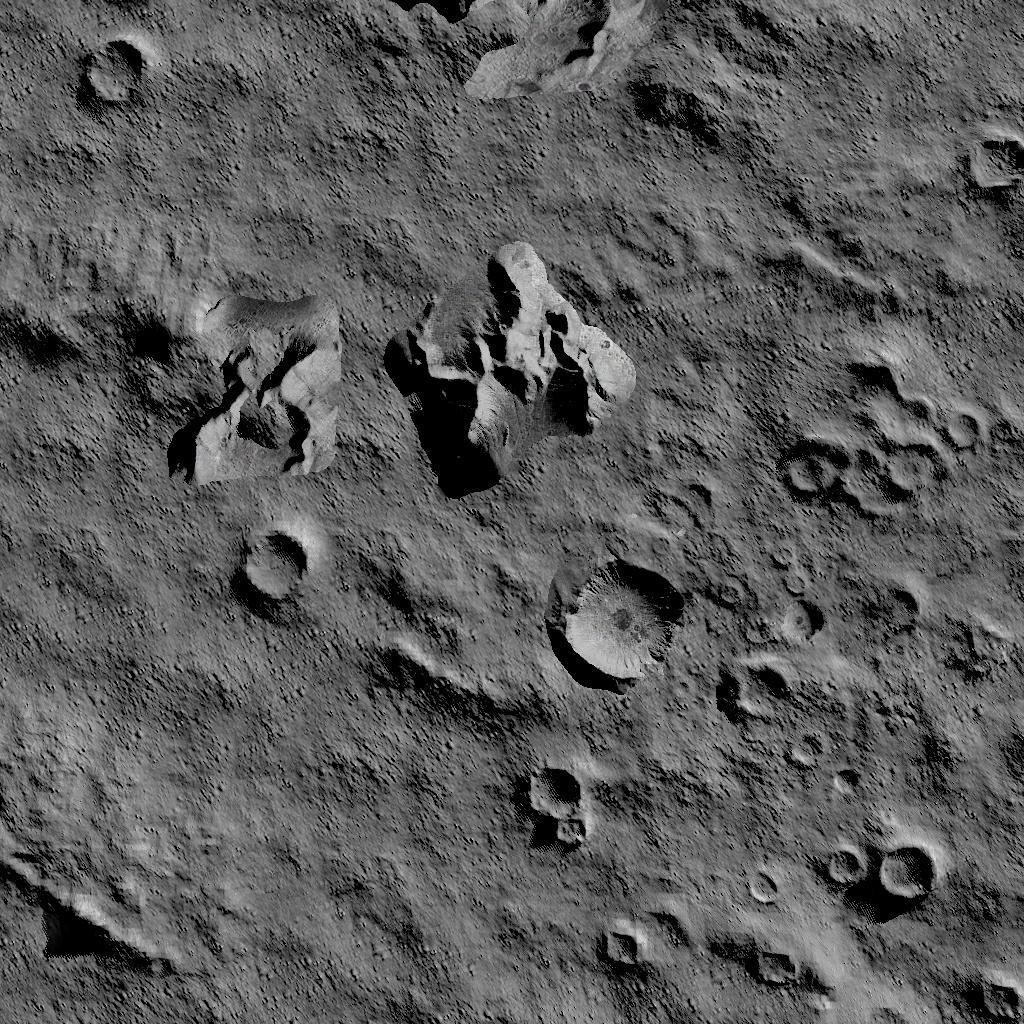Boulders: (2, 226, 348, 494), (340, 0, 802, 162), (385, 238, 641, 502), (353, 542, 529, 744), (1, 848, 179, 1000), (763, 190, 921, 324)
Crater: (770, 342, 986, 520), (547, 550, 694, 700), (721, 598, 833, 728), (219, 512, 337, 630), (815, 828, 942, 922), (64, 26, 164, 122), (519, 758, 598, 855), (949, 124, 1024, 214), (949, 962, 1024, 1024), (866, 570, 924, 646), (744, 942, 810, 1002), (588, 922, 652, 976), (997, 724, 1024, 792)
Plan surface: (214, 767, 508, 1024), (5, 510, 203, 831), (176, 0, 320, 215), (821, 0, 1024, 111), (213, 646, 339, 759)
